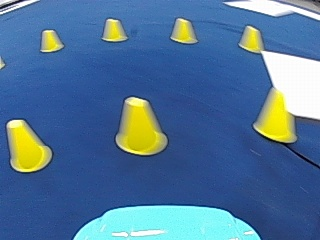cone: (114, 97, 166, 155), (5, 118, 51, 172), (252, 86, 295, 141), (169, 17, 197, 44), (237, 25, 263, 51), (101, 18, 127, 41), (39, 28, 63, 52)
